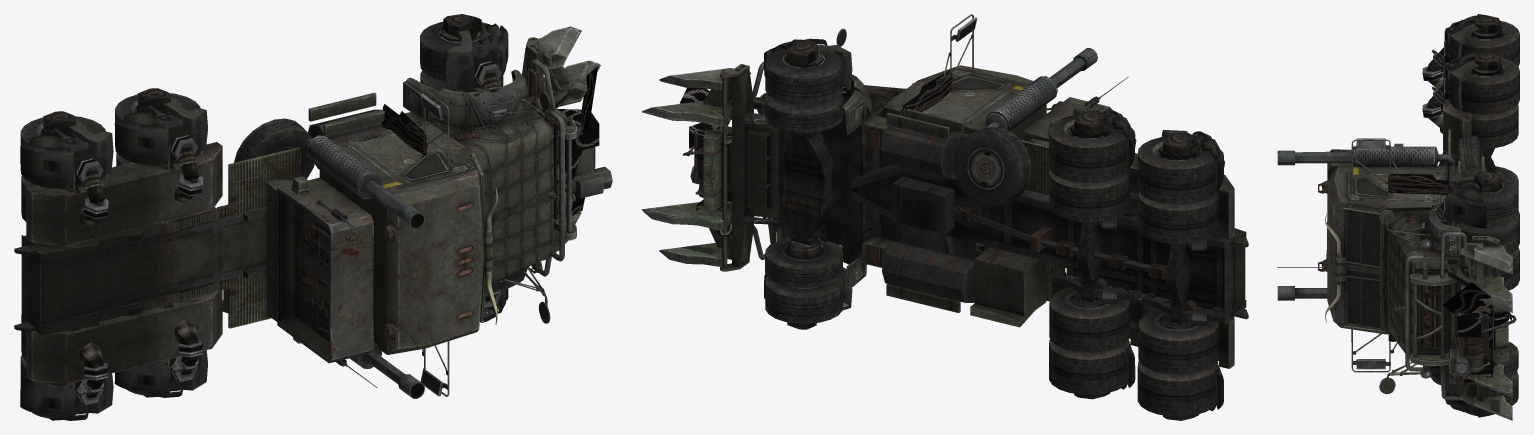
Rendered from VH-Megatron TF3.obj.
3 renders of one model, left to right at view 1: azimuth 30°, elevation 25°; view 2: azimuth 150°, elevation 25°; view 3: azimuth 270°, elevation 25°, orthographic. The views are drawn at different scales.
Parts seen in each view (by area): view 1: C_Reference_XR; view 2: C_Reference_XR; view 3: C_Reference_XR.
Part boxes in pixels (x1,y1,x2,y2): C_Reference_XR: [14, 14, 612, 420]; C_Reference_XR: [641, 14, 1248, 420]; C_Reference_XR: [1277, 14, 1519, 420].
Size of the model in its own units: 1061 by 491 by 454.
Materials: 3 (3 with a texture image).
